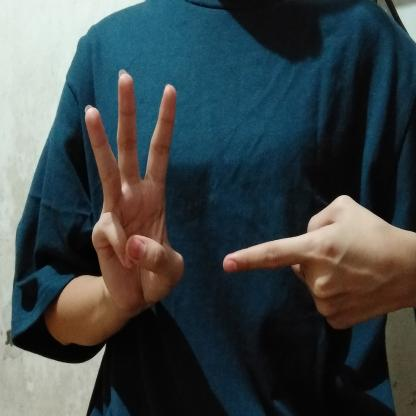why: (78, 65, 416, 341)
